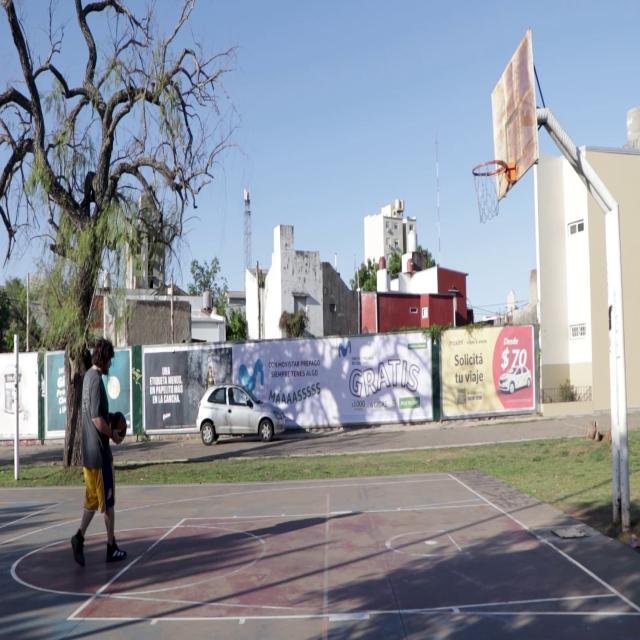ball: (110, 412, 127, 443)
